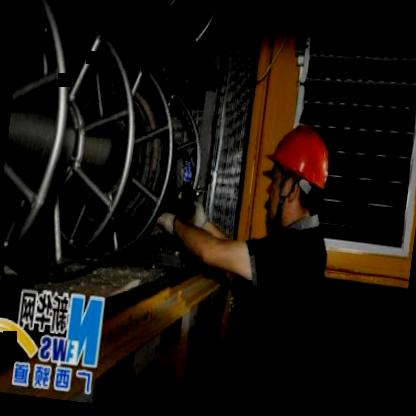helmet: (258, 112, 338, 230)
